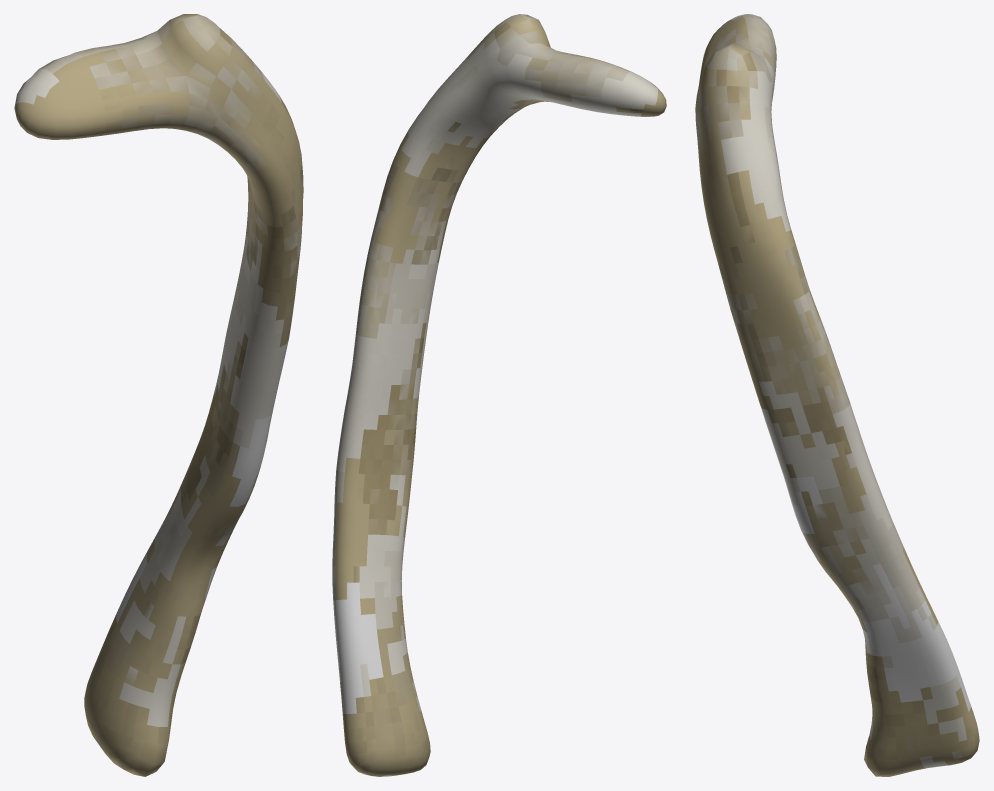
The model's file is Rib L01.fbx.
3 views of the same model, side by side, from view 1: azimuth 30°, elevation 25°; view 2: azimuth 150°, elevation 25°; view 3: azimuth 270°, elevation 25° (orthographic). The views are drawn at different scales.
Parts seen in each view (by area): view 1: Rib L01; view 2: Rib L01; view 3: Rib L01.
Boxes of the visible parts, x1,y1,x2,y2 form: Rib L01: [14, 14, 303, 776]; Rib L01: [332, 14, 666, 776]; Rib L01: [695, 14, 979, 776].
Bounding box in the file's own units: 5.57 × 14.49 × 5.23.
